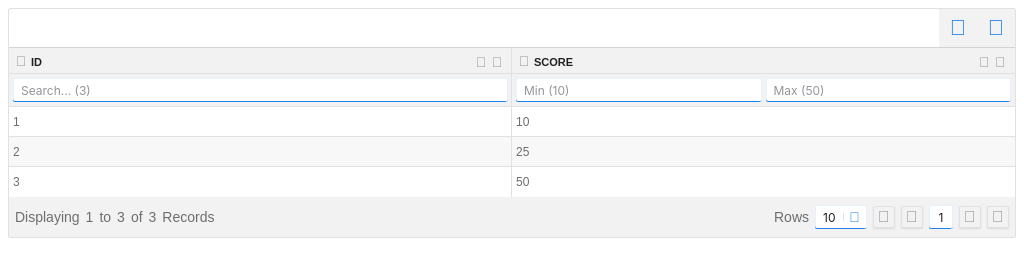
DataTable Row Features and Events (Client Mode) › filter type: number-range
Type "20" into the field with test id "filter-score-min" at (639, 90), box [516, 78, 762, 102]
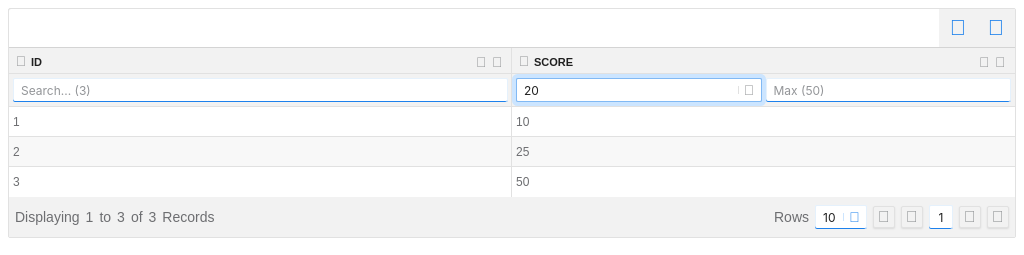
Type "40" into the field with test id "filter-score-max" at (888, 90), box [766, 78, 1011, 102]
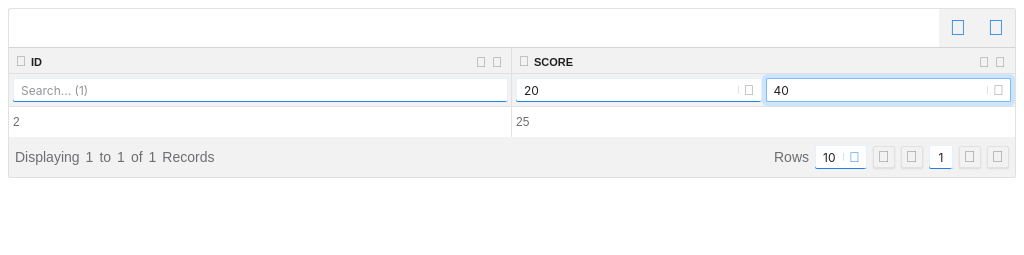
Expected: the text "25" is shown, [516, 115, 529, 129]
Now the text "50" is gone
